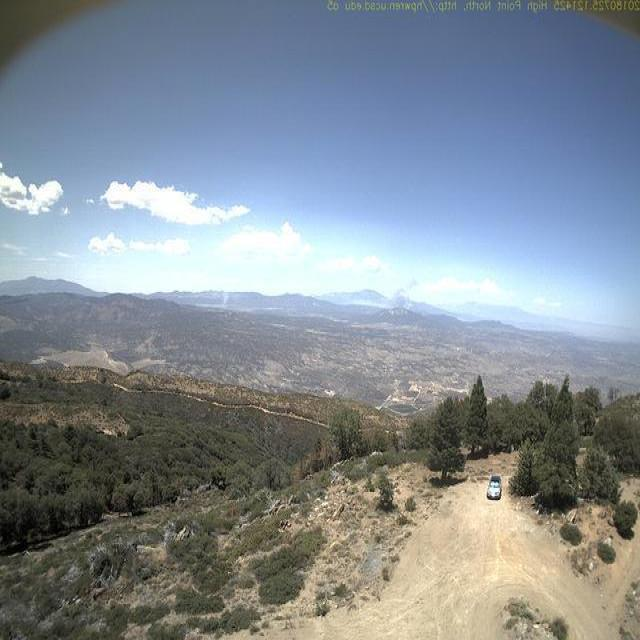smoke: (384, 273, 424, 316)
